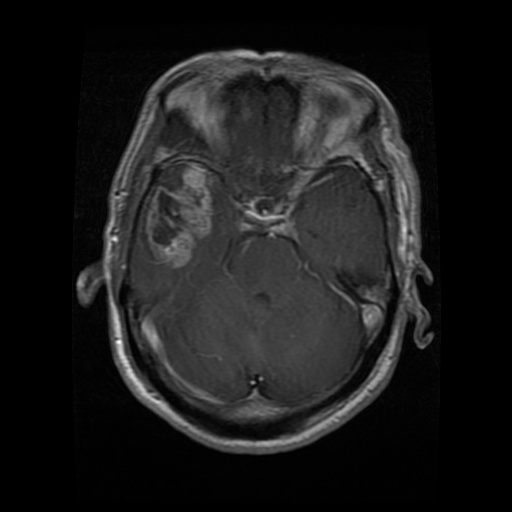glioma: (145, 163, 215, 269)
